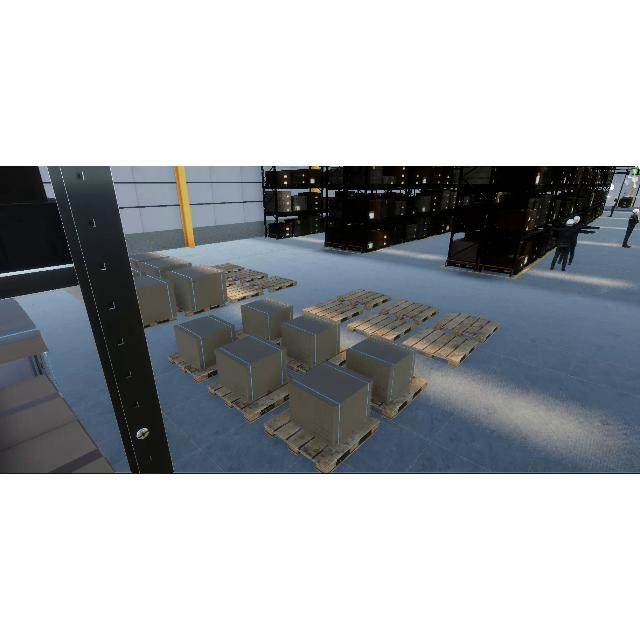wooden_pallet: (263, 407, 381, 474), (208, 372, 294, 422), (401, 326, 478, 367), (371, 373, 429, 419), (434, 310, 500, 344), (347, 312, 416, 341), (167, 350, 218, 384), (302, 299, 365, 324), (380, 299, 439, 325), (337, 287, 391, 311), (250, 275, 297, 294), (226, 284, 264, 303), (225, 268, 268, 284), (176, 303, 226, 316), (210, 262, 245, 274), (226, 278, 236, 287)
